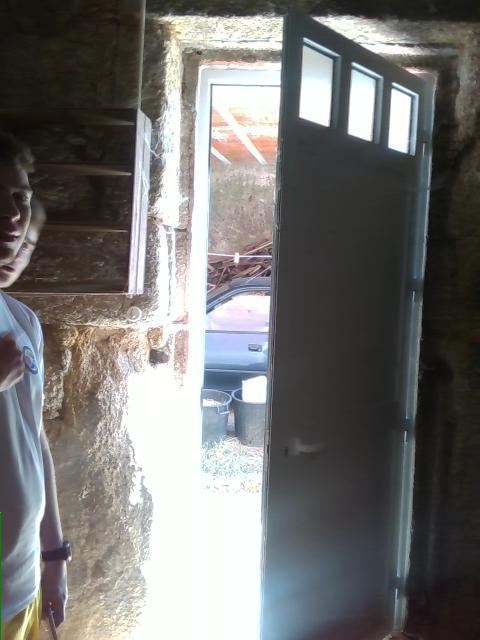semi_door: (181, 5, 436, 639)
